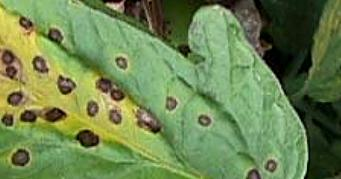Tomato leaf bacterial spot: (0, 0, 324, 179)
